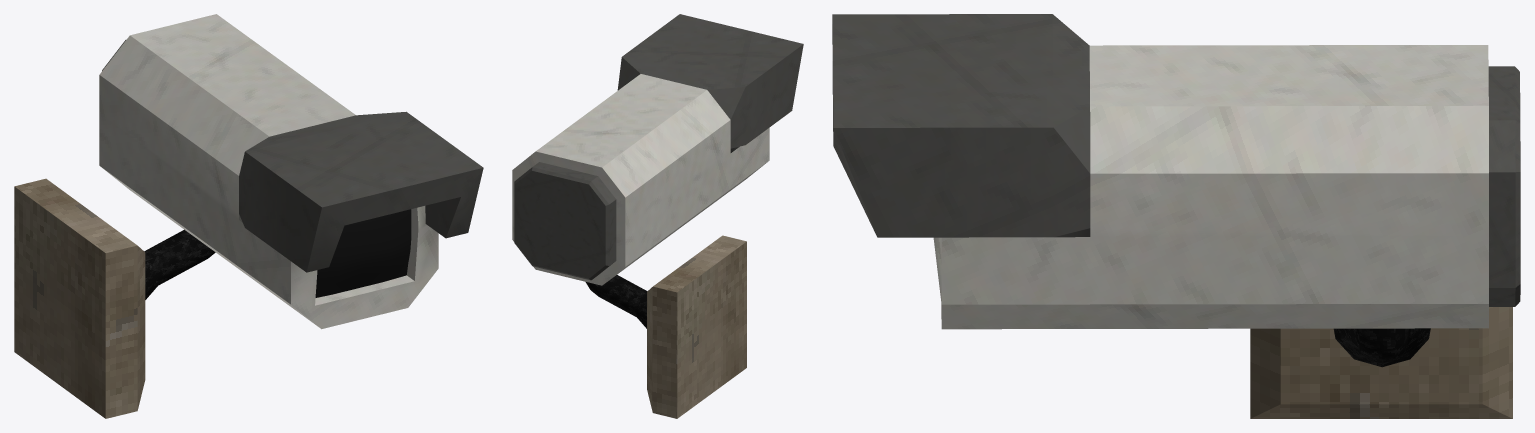
File: camera.glb
The picture shows the model from 3 angles, left to right: view 1: azimuth 30°, elevation 25°; view 2: azimuth 150°, elevation 25°; view 3: azimuth 270°, elevation 25°; orthographic projection. The views are drawn at different scales.
Parts seen in each view (by area): view 1: Camera, CameraBase; view 2: Camera, CameraBase; view 3: Camera, CameraBase.
Part boxes in pixels (bbox=[...]): Camera: bbox=[99, 14, 483, 329]; CameraBase: bbox=[14, 178, 215, 418]; Camera: bbox=[512, 14, 803, 285]; CameraBase: bbox=[585, 235, 746, 418]; Camera: bbox=[832, 14, 1520, 329]; CameraBase: bbox=[1250, 307, 1512, 418].
Size of the model in its own units: 0.1708 by 0.2106 by 0.3041.
Materials: 6 (4 with a texture image).
